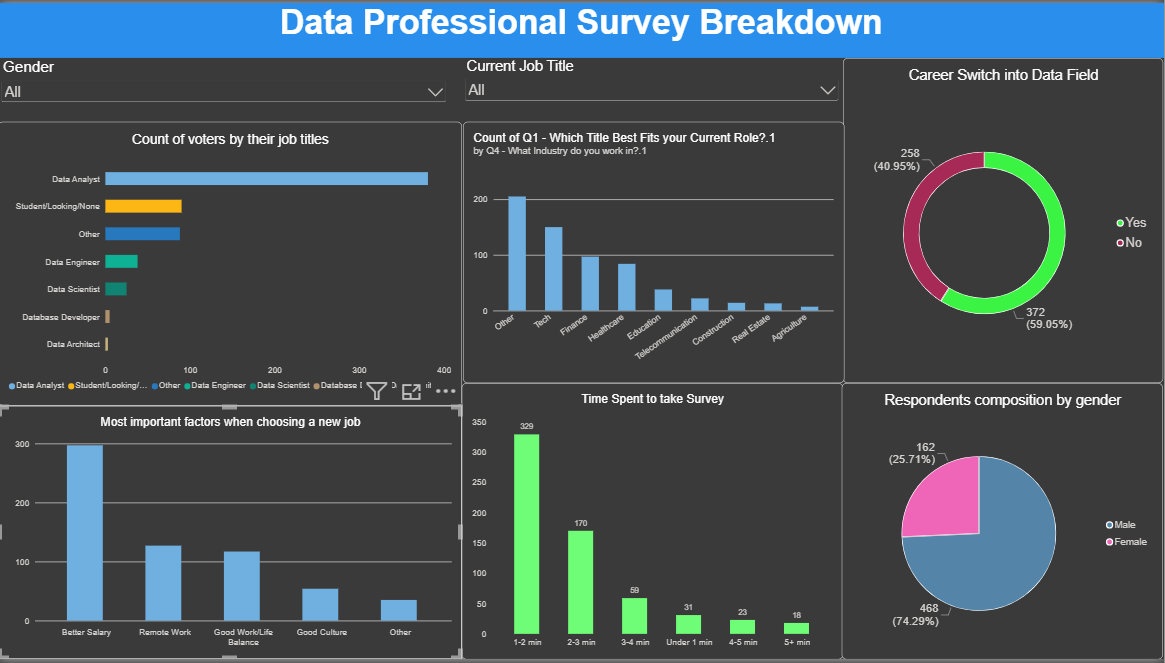

The page's visual inventory and layout, read from the dashboard file:
{"tool":"powerbi","page":{"name":"Survey Overview","canvas":[1920,1080],"ordinal":1},"visuals":[{"type":"slicer","fields":{"Values":["Data Professional Survey.Q9 - Male/Female?"]},"box":[0,90.6,529,90.6],"z":0},{"type":"columnChart","title":"Perceived Difficulty of Breaking Into Data Field ","fields":{"Category":["Data Professional Survey.Difficulty"],"Series":["Data Professional Survey.Q9 - Male/Female?"],"Y":["CountNonNull(Data Professional Survey.Unique ID)"]},"box":[763.6,90.6,627.8,535.2],"z":1000},{"type":"barChart","title":"Count of voters by their job titles","fields":{"Category":["Data Professional Survey.Q1 - Which Title Best Fits your Current Role?.1"],"Series":["Data Professional Survey.Q1 - Which Title Best Fits your Current Role?.1"],"Y":["CountNonNull(Data Professional Survey.Unique ID)"]},"box":[0,164.7,763.6,535.2],"z":2000},{"type":"columnChart","title":"Time Spent to take Survey","fields":{"Category":["Data Professional Survey.Completion Category"],"Y":["CountNonNull(Data Professional Survey.Q1 - Which Title Best Fits your Current Role?.1)"]},"box":[763.6,625.7,627.8,454.9],"z":3000},{"type":"pieChart","title":"Count of voters by gender","fields":{"Category":["Data Professional Survey.Q9 - Male/Female?"],"Y":["CountNonNull(Data Professional Survey.Unique ID)"]},"box":[1391.4,625.7,529,454.9],"z":4000},{"type":"textbox","box":[0,0,1920.4,90.6],"z":5000},{"type":"donutChart","title":"Career Switch into Data Field","fields":{"Category":["Data Professional Survey.Q2 - Did you switch careers into Data?"],"Y":["CountNonNull(Data Professional Survey.Unique ID)"]},"box":[1391.4,90.6,526.9,535.2],"z":6000},{"type":"gauge","title":"Happiness with coworkers","fields":{"MaxValue":["Max(Data Professional Survey.Q6 - How Happy are you in your Current Position with the following? (Coworkers))"],"MinValue":["Min(Data Professional Survey.Q6 - How Happy are you in your Current Position with the following? (Coworkers))"],"Y":["Avg(Data Professional Survey.Q6 - How Happy are you in your Current Position with the following? (Coworkers))"]},"box":[0,700,764,380],"z":6001}]}

Visuals, with their boxes in screenshot pixels (x1, y1, x2, y2), scaled from the page's 1920x1080 canvas onto the 1165x663 screenshot:
slicer - Data Professional Survey.Q9 - Male/Female?: x1=0 y1=56 x2=321 y2=111
"Perceived Difficulty of Breaking Into Data Field " columnChart: x1=463 y1=56 x2=844 y2=384
"Count of voters by their job titles" barChart: x1=0 y1=101 x2=463 y2=430
"Time Spent to take Survey" columnChart: x1=463 y1=384 x2=844 y2=662
"Count of voters by gender" pieChart: x1=844 y1=384 x2=1164 y2=662
textbox: x1=0 y1=0 x2=1164 y2=56
"Career Switch into Data Field" donutChart: x1=844 y1=56 x2=1164 y2=384
"Happiness with coworkers" gauge: x1=0 y1=430 x2=464 y2=662
